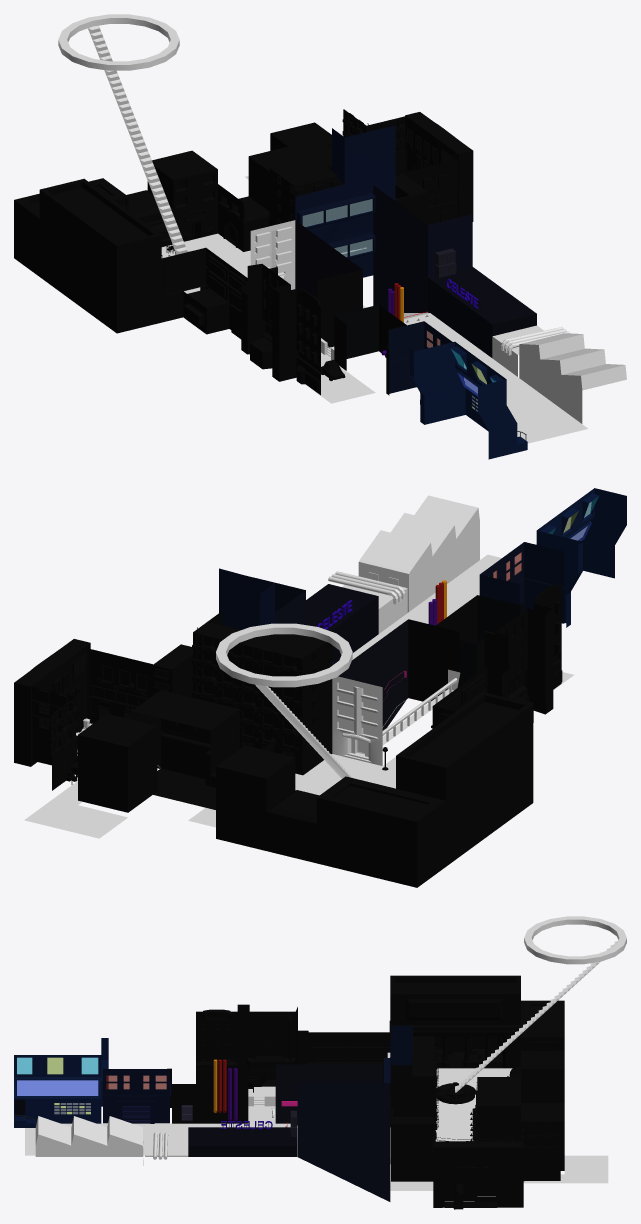
File: CityTest.FBX
3 views of the same model, one above another, from view 1: azimuth 30°, elevation 25°; view 2: azimuth 150°, elevation 25°; view 3: azimuth 270°, elevation 25° (orthographic). The views are drawn at different scales.
Parts seen in each view (by area): view 1: Z02_FBuilding3, Z01_DBuilding1, Z01_DBuilding2, Z02_FBuilding1, Z01_FBuilding1, Z00_Ground, Z02_FBuilding2, Z01_BBuilding3, Z01_BBuilding1, Z01_FBuilding4, Z03_FBuilding7, Z02_FBuilding6 (+14 smaller); view 2: Z02_FBuilding3, Z02_FBuilding4, Z03_FBuilding1, Z01_BBuilding1, Z03_FBuilding7, Z00_Ground, Z01_FBuilding4, Z03_FBuilding6, Z02_FBuilding1, Z02_FBuilding6, Z01_FBuilding1, Z01_FBuilding5 (+14 smaller); view 3: Z02_FBuilding3, Z01_DBuilding2, Z02_FBuilding1, Z00_Ground, Z01_FBuilding1, Z03_FBuilding4, Z01_BBuilding1, Z01_FBuilding3, Z01_FBuilding2, Z01_BBuilding3, Z03_FBuilding1, Z03_FBuilding7 (+12 smaller).
Part boxes in pixels (x1,y1,x2,y2): Z02_FBuilding3: [39, 178, 163, 333]; Z01_DBuilding1: [282, 125, 395, 277]; Z01_DBuilding2: [373, 185, 472, 312]; Z02_FBuilding1: [241, 264, 322, 395]; Z01_FBuilding1: [409, 341, 527, 459]; Z00_Ground: [161, 176, 588, 443]; Z02_FBuilding2: [161, 247, 247, 349]; Z01_BBuilding3: [428, 266, 536, 357]; Z01_BBuilding1: [519, 333, 626, 423]; Z01_FBuilding4: [295, 220, 362, 347]; Z03_FBuilding7: [218, 139, 331, 251]; Z02_FBuilding6: [147, 150, 217, 241]; Z02_FBuilding3: [396, 692, 533, 866]; Z02_FBuilding4: [316, 776, 446, 887]; Z03_FBuilding1: [192, 611, 331, 775]; Z01_BBuilding1: [358, 495, 479, 612]; Z03_FBuilding7: [131, 690, 274, 809]; Z00_Ground: [24, 554, 573, 838]; Z01_FBuilding4: [338, 619, 459, 730]; Z03_FBuilding6: [78, 713, 157, 812]; Z02_FBuilding1: [484, 584, 562, 722]; Z02_FBuilding6: [216, 745, 295, 850]; Z01_FBuilding1: [536, 488, 626, 627]; Z01_FBuilding5: [332, 669, 460, 765]; Z02_FBuilding3: [390, 975, 520, 1068]; Z01_DBuilding2: [290, 1083, 390, 1201]; Z02_FBuilding1: [196, 1004, 308, 1086]; Z00_Ground: [25, 1068, 608, 1201]; Z01_FBuilding1: [14, 1038, 108, 1127]; Z03_FBuilding4: [433, 1141, 523, 1209]; Z01_BBuilding1: [35, 1116, 143, 1165]; Z01_FBuilding3: [167, 1059, 248, 1123]; Z01_FBuilding2: [102, 1069, 171, 1123]; Z01_BBuilding3: [188, 1121, 297, 1156]; Z03_FBuilding1: [390, 1036, 438, 1163]; Z03_FBuilding7: [470, 1077, 520, 1141].
Size of the model in its own units: 7004 by 4175 by 11345.
